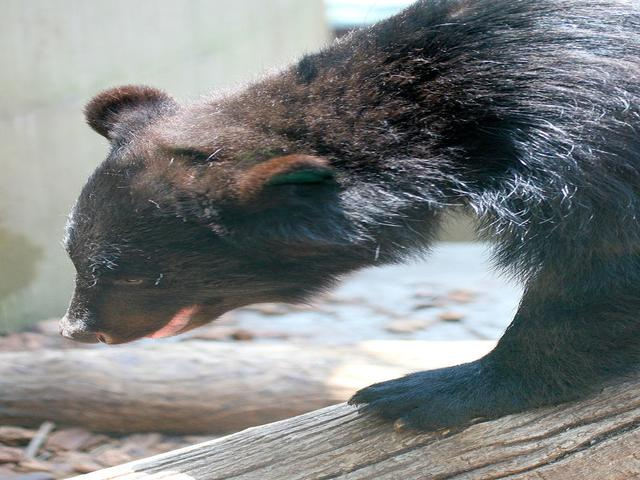bear: (14, 2, 627, 432)
